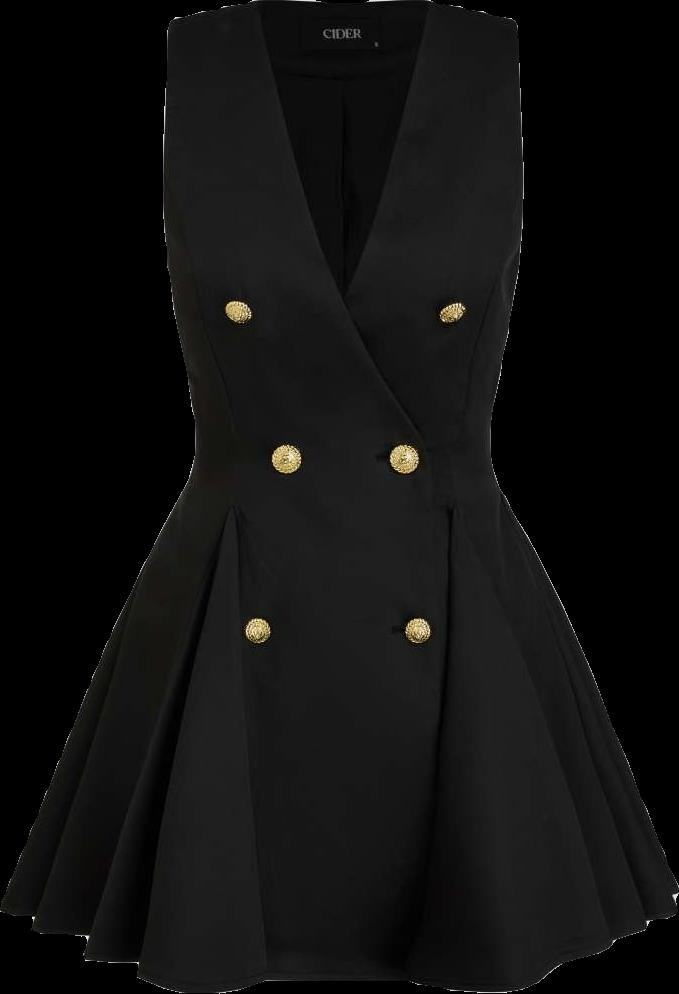Bodice: (163, 0, 523, 452)
Hemline: (0, 891, 678, 993)
Neckline: (254, 0, 434, 306)
Skirt: (1, 453, 678, 992)
